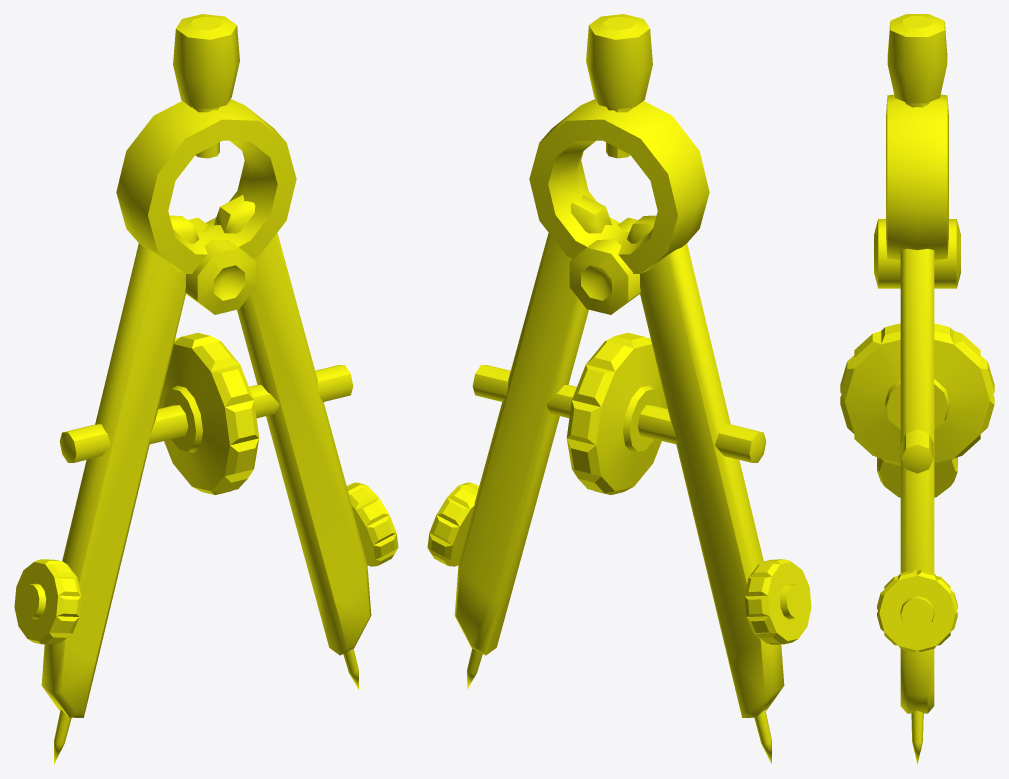
File: kaykit-drafting-compass.glb
3 views of the same model, side by side, from view 1: azimuth 30°, elevation 25°; view 2: azimuth 150°, elevation 25°; view 3: azimuth 270°, elevation 25° (orthographic). The views are drawn at different scales.
Visible parts, largest first — view 1: drafting_compass; view 2: drafting_compass; view 3: drafting_compass.
Boxes of the visible parts, x1,y1,x2,y2 form: drafting_compass: [14, 14, 398, 763]; drafting_compass: [427, 14, 811, 763]; drafting_compass: [840, 14, 994, 764].
Bounding box in the file's own units: 0.4577 × 0.8542 × 0.1776.
